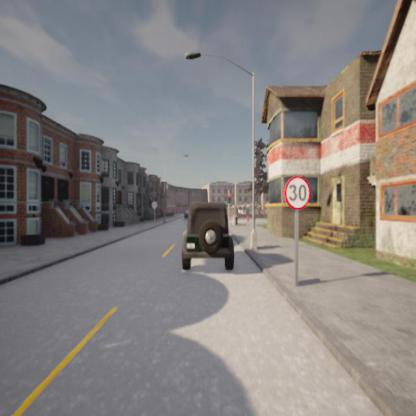traffic_sign_30: (284, 176, 311, 210)
vehicle: (180, 202, 235, 270)
